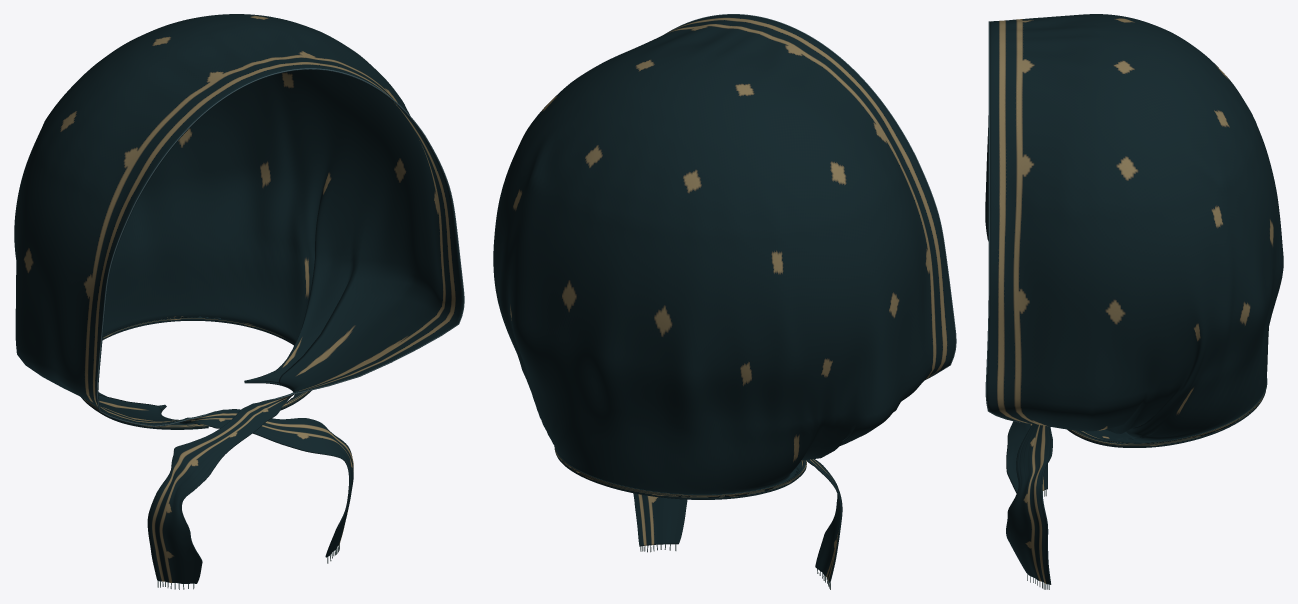
File: Feminine-tank-volume-pashmina248-headgear.glb
3 views of the same model, side by side, from view 1: azimuth 30°, elevation 25°; view 2: azimuth 150°, elevation 25°; view 3: azimuth 270°, elevation 25° (orthographic). The views are drawn at different scales.
Visible parts, largest first — view 1: 226 headgear / Headwear / continuous woven pashmina239, 226 headgear / Headwear / face edge239; view 2: 226 headgear / Headwear / continuous woven pashmina239, 226 headgear / Headwear / face edge239; view 3: 226 headgear / Headwear / continuous woven pashmina239, 226 headgear / Headwear / face edge239.
Part boxes in pixels (x1=…): 226 headgear / Headwear / continuous woven pashmina239: x1=14, y1=14, x2=463, y2=583; 226 headgear / Headwear / face edge239: x1=96, y1=68, x2=464, y2=426; 226 headgear / Headwear / continuous woven pashmina239: x1=493, y1=14, x2=955, y2=583; 226 headgear / Headwear / face edge239: x1=664, y1=14, x2=956, y2=379; 226 headgear / Headwear / continuous woven pashmina239: x1=985, y1=14, x2=1283, y2=584; 226 headgear / Headwear / face edge239: x1=985, y1=21, x2=1028, y2=423.
Bounding box in the file's own units: 1.02 × 1.35 × 0.7113.
3 materials, 1 textured.
